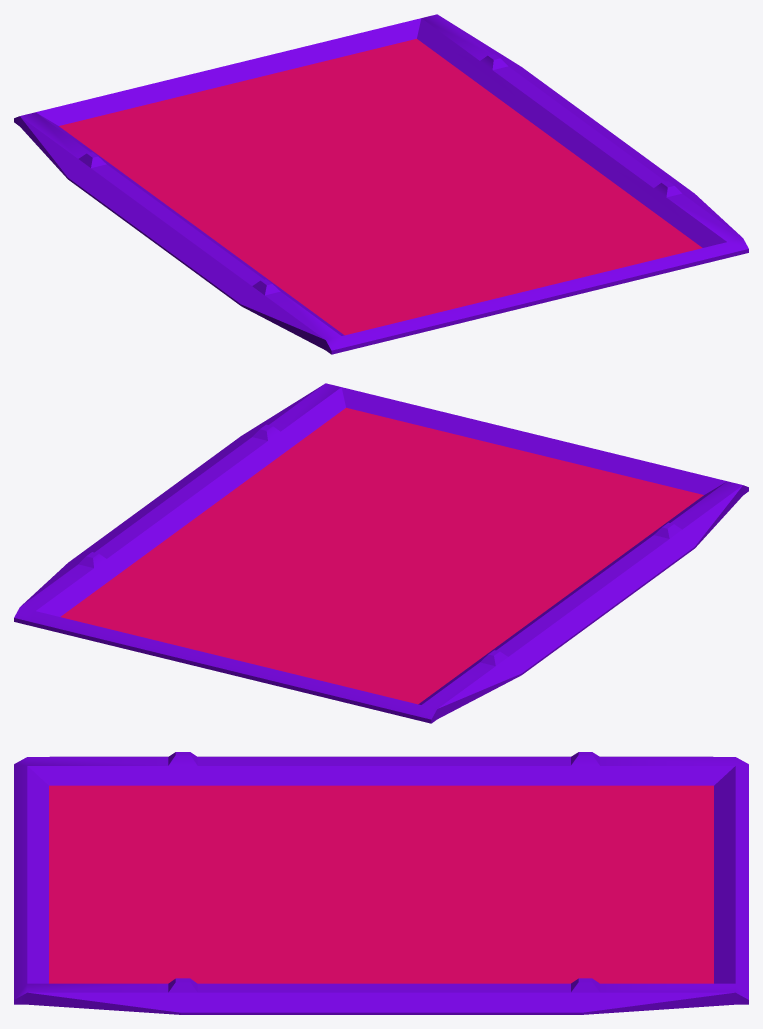
File: BoostPadMesh.fbx
3 renders of one model, top to bottom at view 1: azimuth 30°, elevation 25°; view 2: azimuth 150°, elevation 25°; view 3: azimuth 270°, elevation 25°, orthographic. The views are drawn at different scales.
Visible parts, largest first — view 1: BoostPad; view 2: BoostPad; view 3: BoostPad.
Boxes of the visible parts, x1,y1,x2,y2 form: BoostPad: (14,14,748,354); BoostPad: (14,383,748,723); BoostPad: (14,752,748,1014).
Bounding box in the file's own units: 2.13 × 0.0767 × 2.58.
